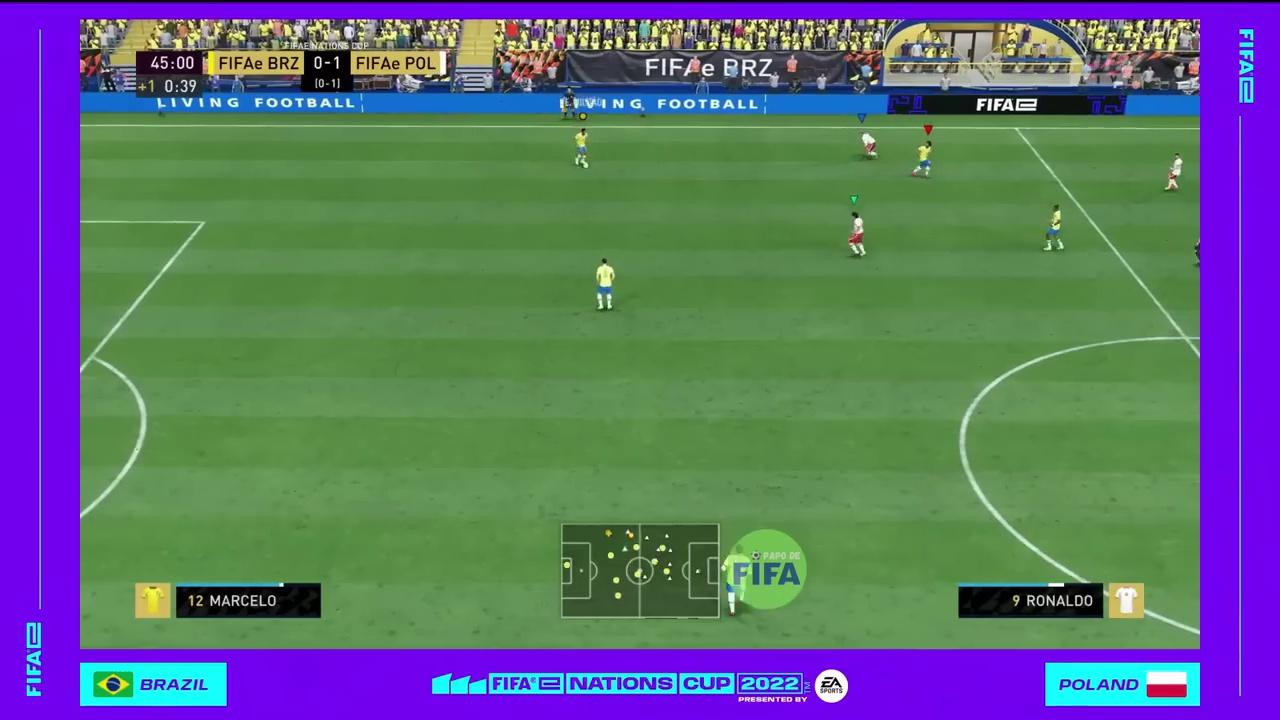scoreboard: (210, 47, 451, 78)
timestamp: (135, 50, 205, 97)
